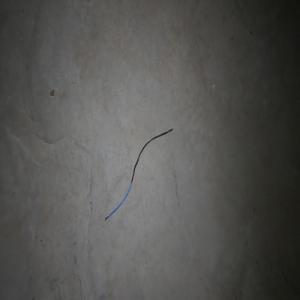Wire: (104, 127, 173, 221)
